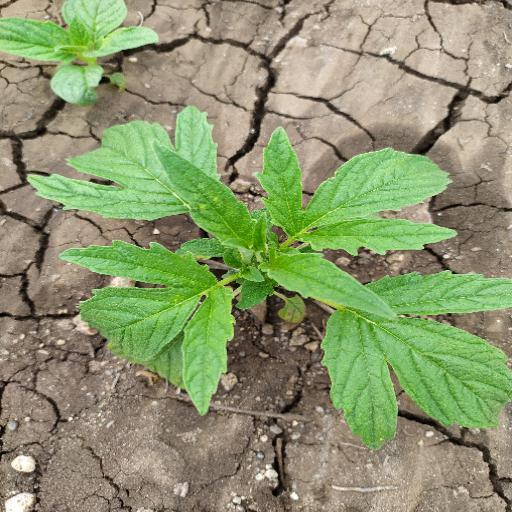crop: (17, 105, 512, 436), (1, 2, 167, 104)
